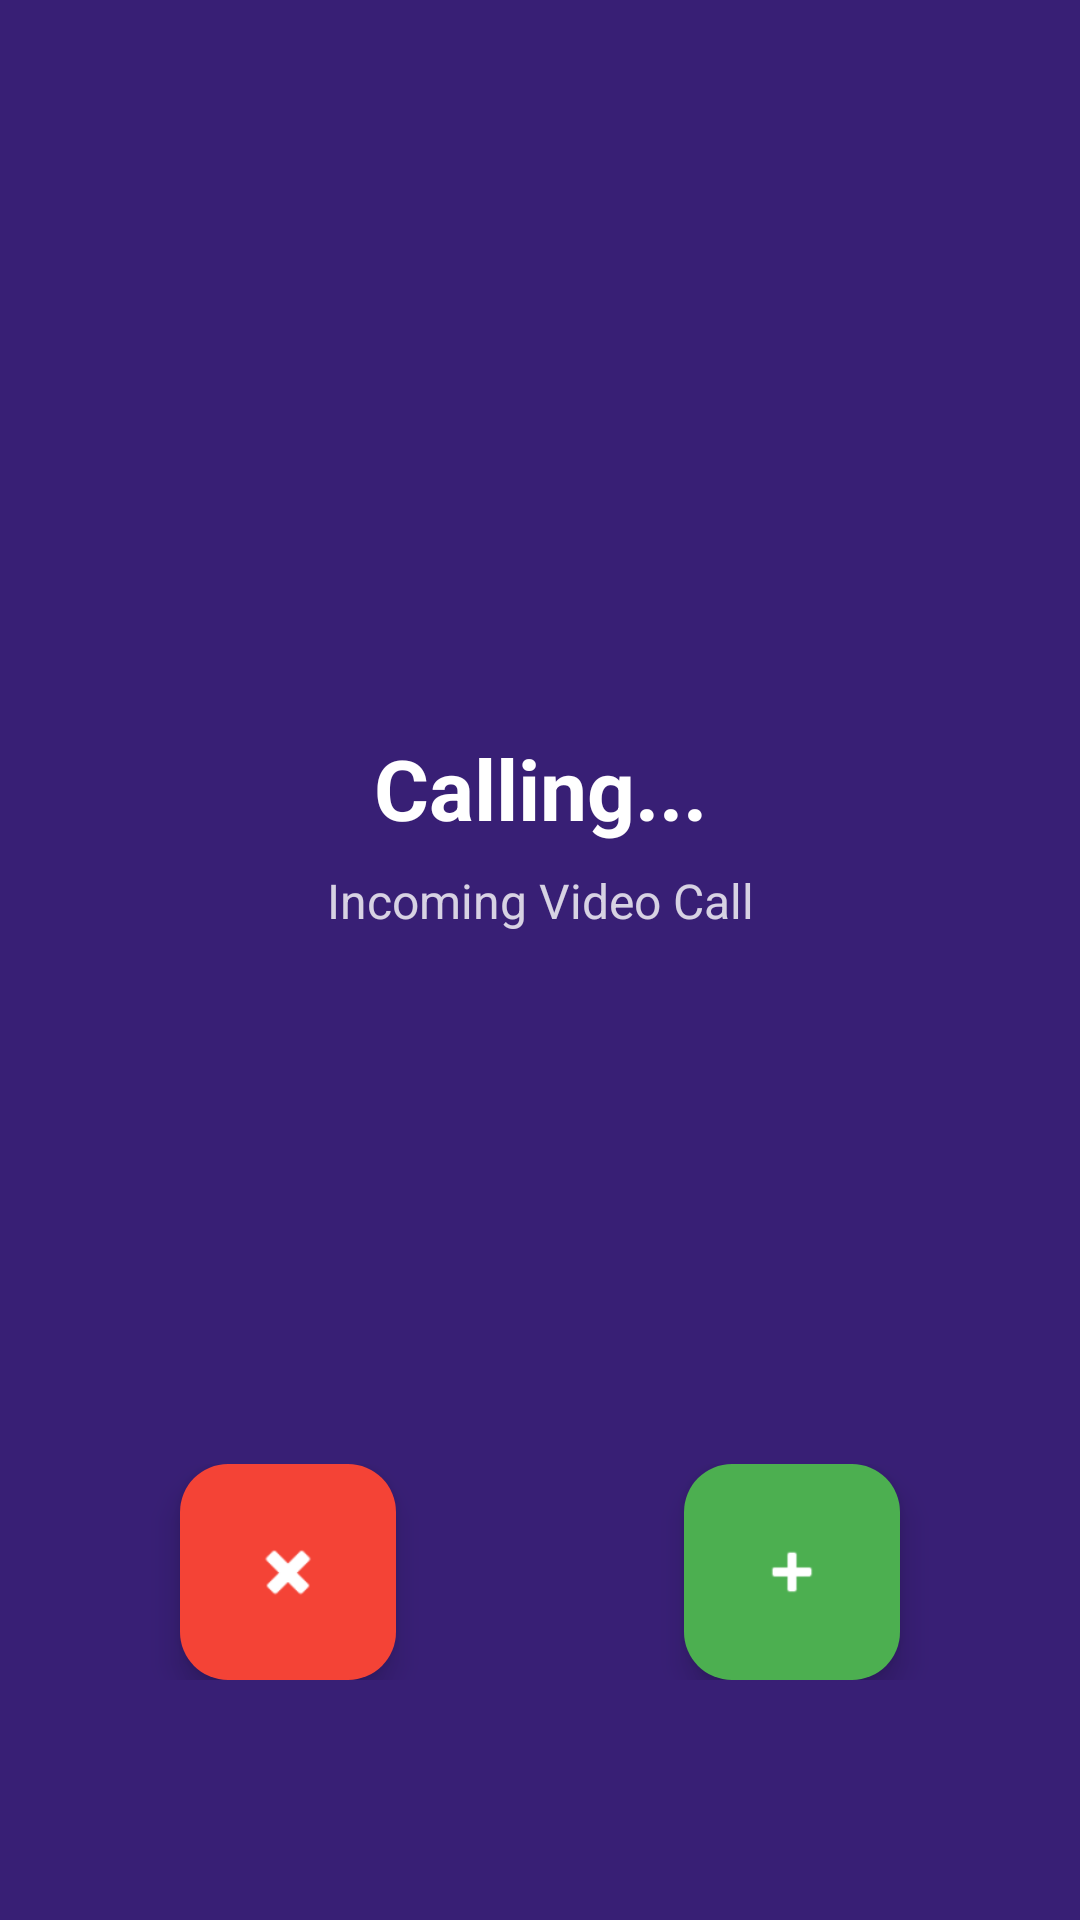

Screen size 1080 × 1920. Icon name, then its box in pixels as box=[x1, y1, x2, y2]:
add: box=[684, 1464, 900, 1680]
delete: box=[180, 1464, 396, 1680]
